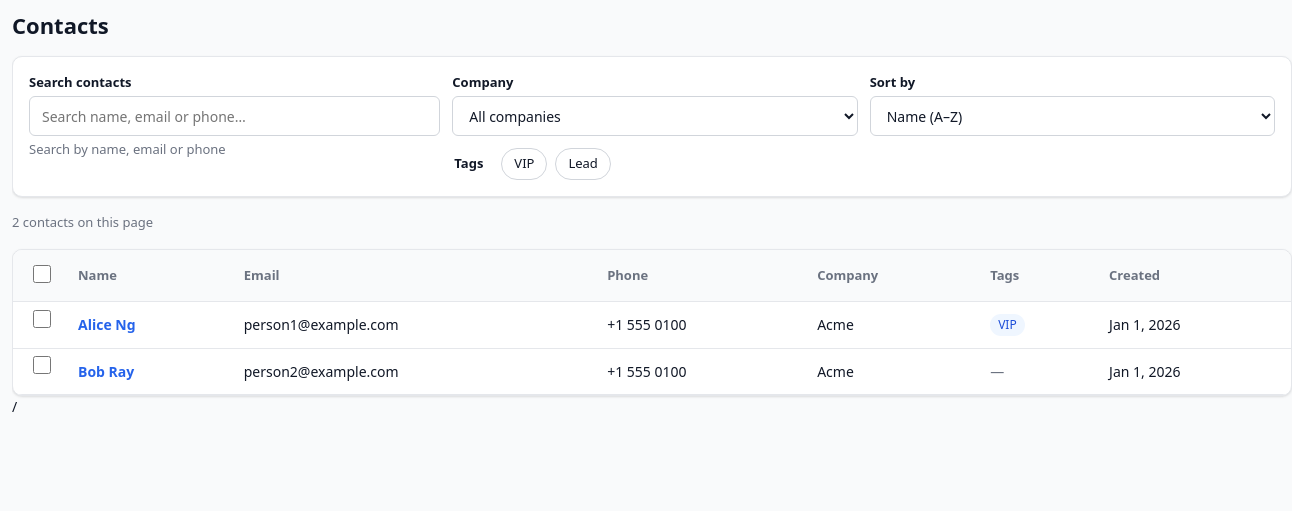
Test: ContactsPage › bulk-assigns a tag to the selected contacts
Check: the link "Alice Ng" is shown, box [78,315,136,334]
Click the checkbox named "Select all on this page" at (42, 274), box [33,265,51,283]
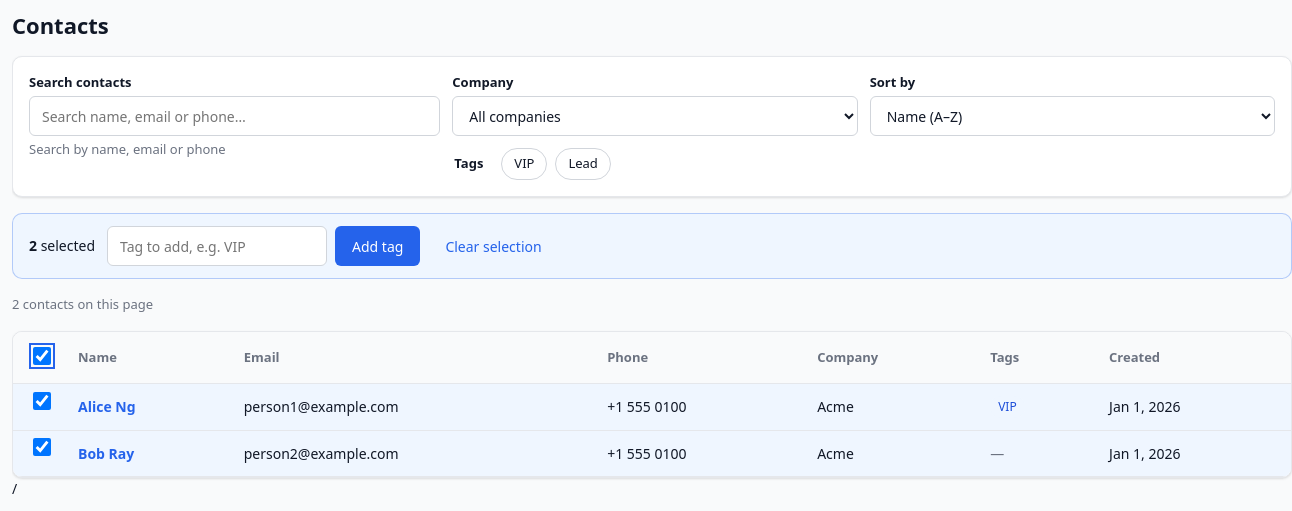
Check: the text "selected" shows "2", box [29,236,37,255]
Type "Webinar" into the field labelled "Tag to add" at (217, 246), box [107,226,327,266]
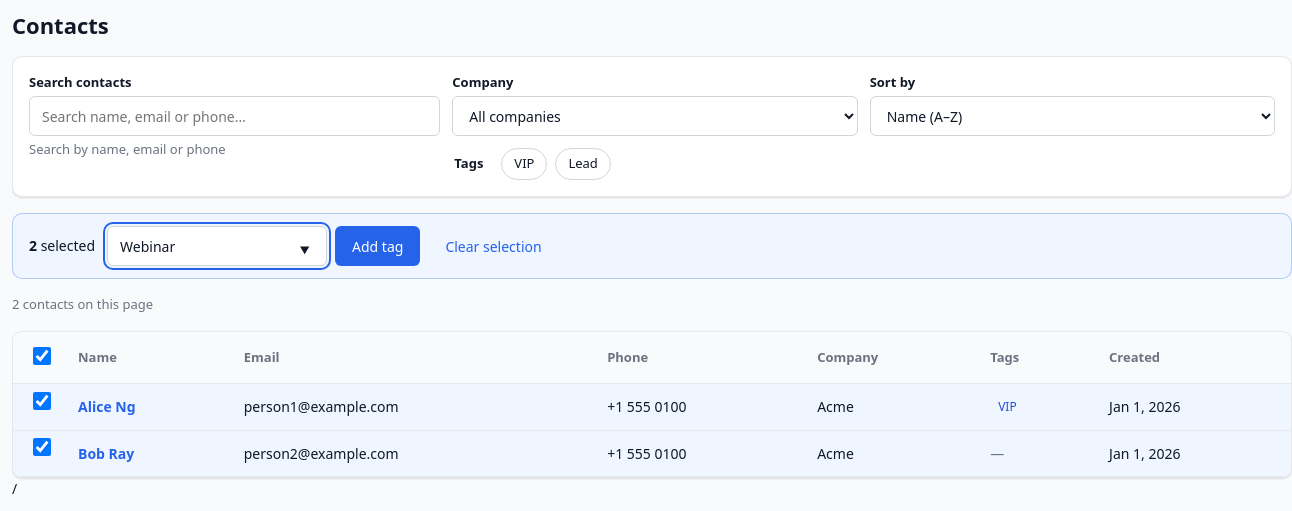
Click the button "Add tag" at (378, 246), box [335,226,420,266]
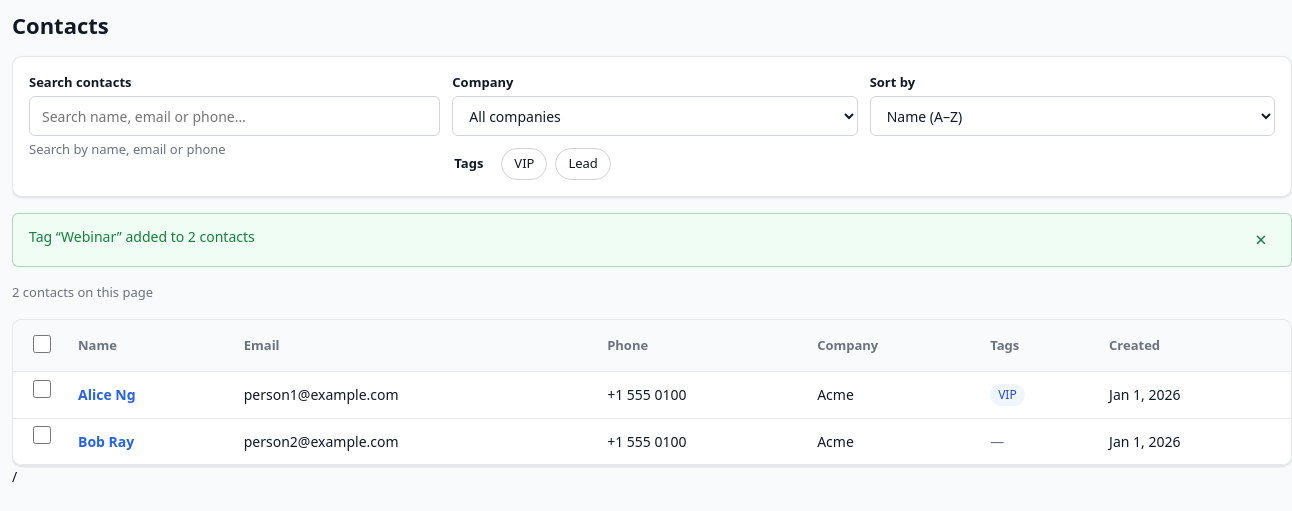
Check: the text "Tag “Webinar” added to 2 contacts" is shown, box [29,226,255,247]
